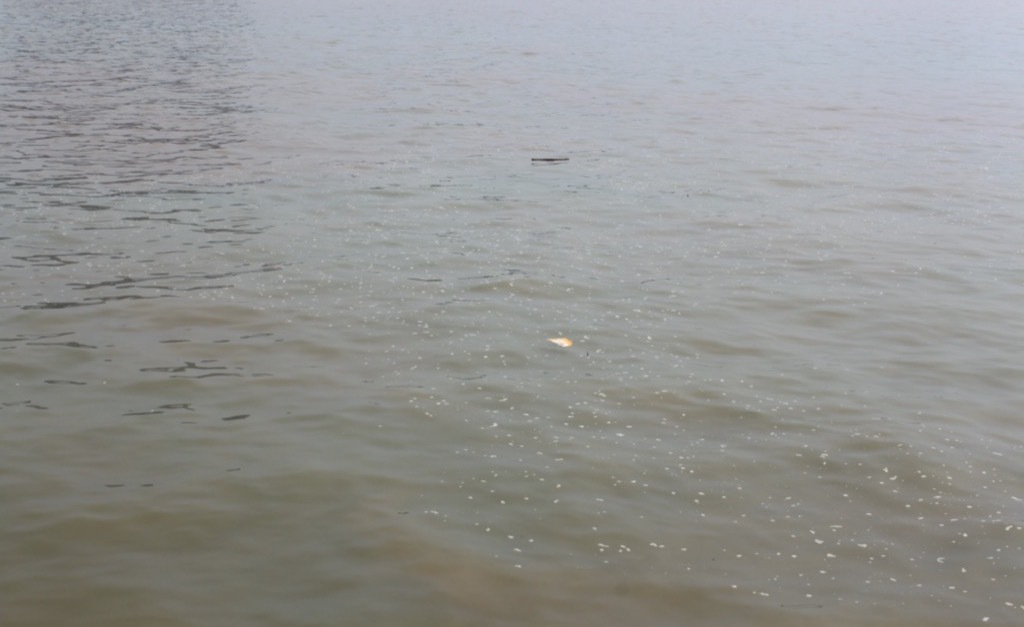organic: (522, 146, 589, 180)
plastic: (544, 334, 579, 355)
